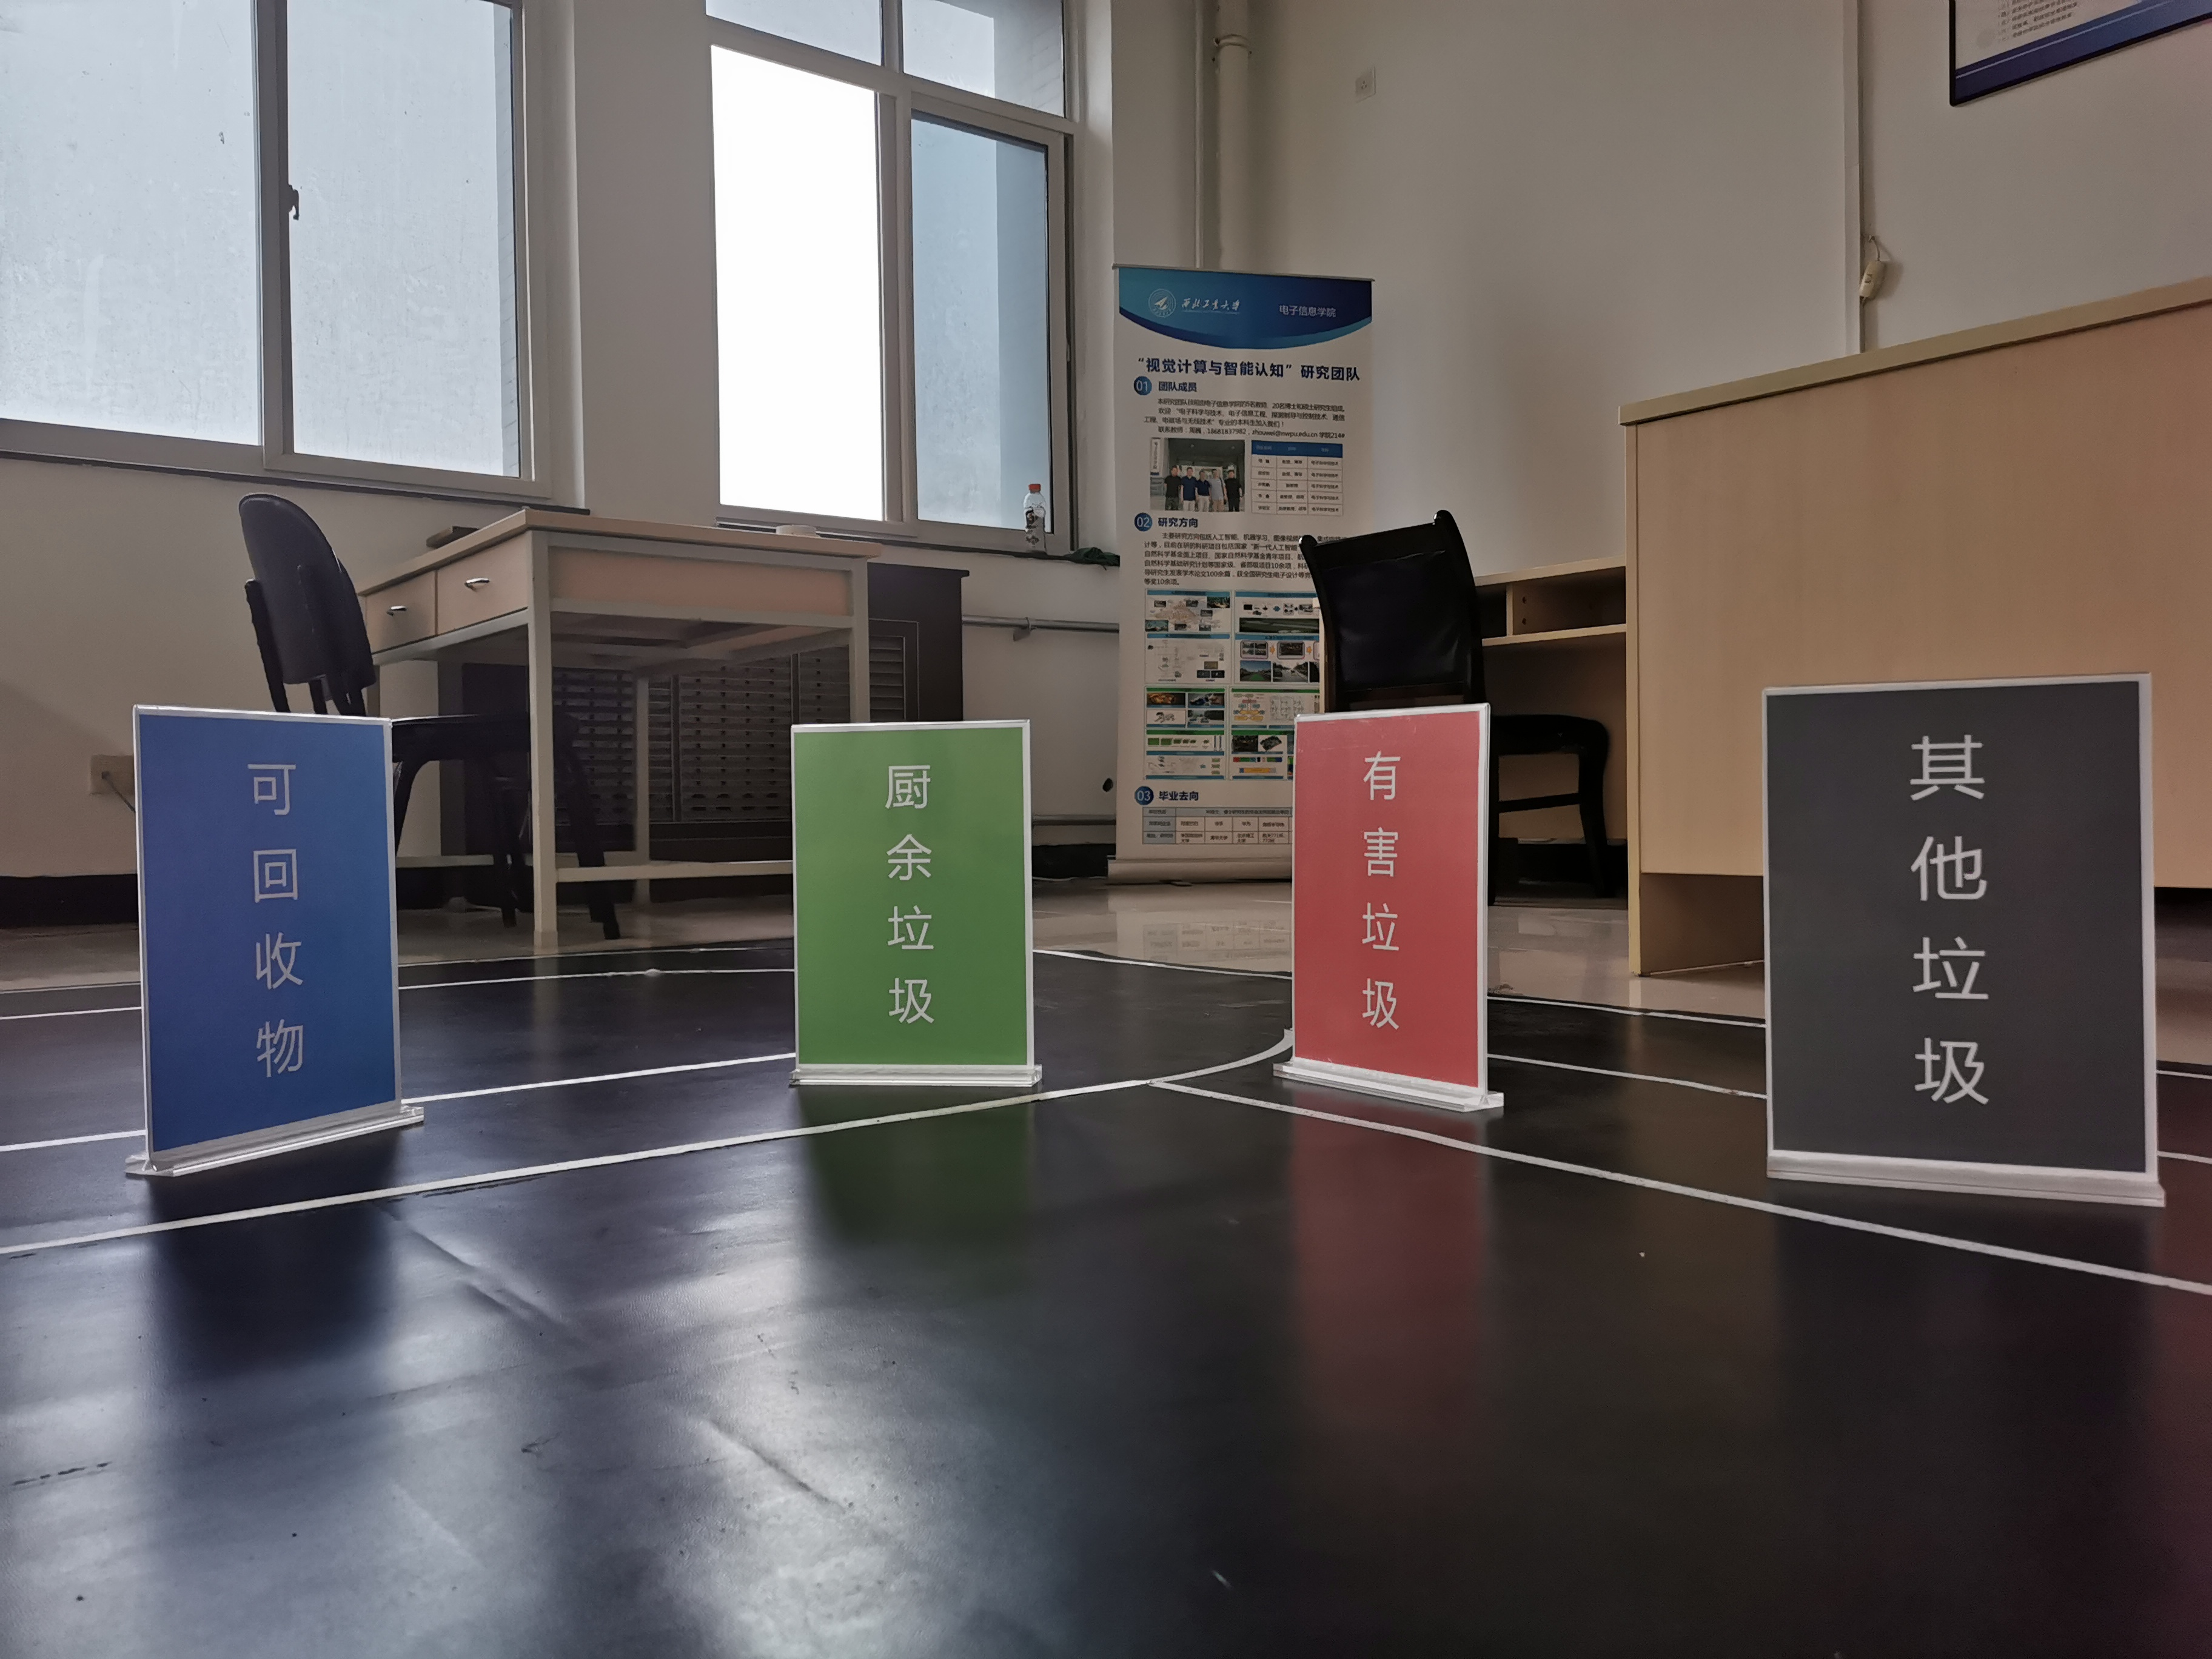black: (1777, 706, 2128, 1143)
blue: (162, 728, 388, 1093)
green: (803, 741, 1022, 1054)
red: (1303, 735, 1468, 1058)
